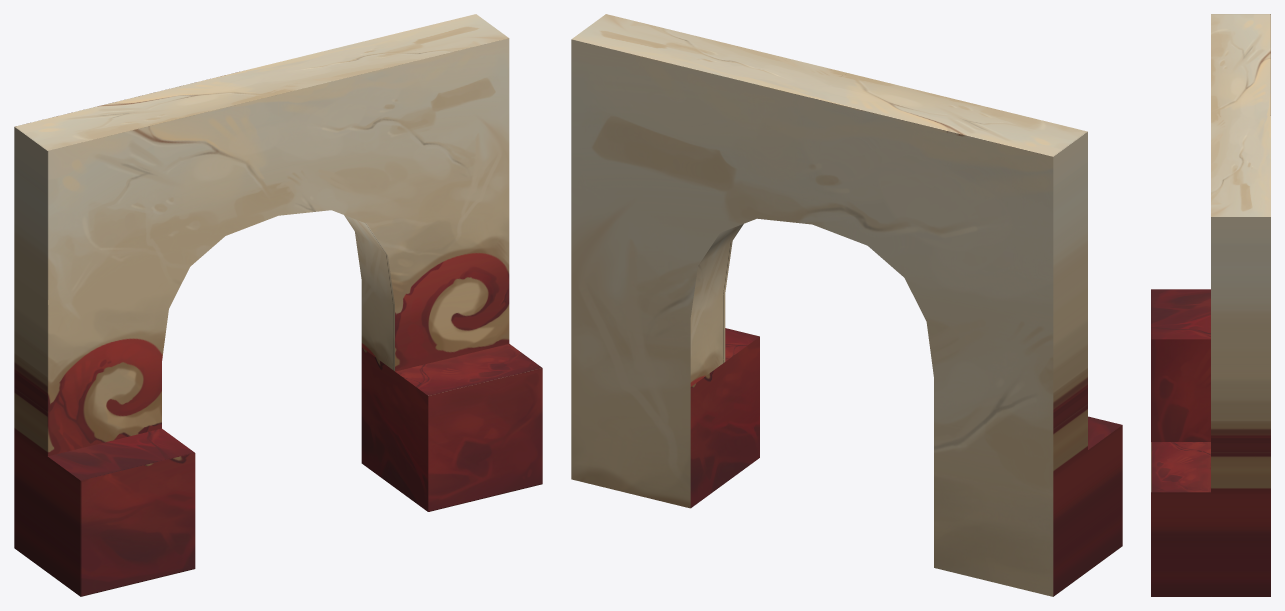
File: arche.fbx
3 renders of one model, left to right at view 1: azimuth 30°, elevation 25°; view 2: azimuth 150°, elevation 25°; view 3: azimuth 270°, elevation 25°, orthographic. The views are drawn at different scales.
Parts seen in each view (by area): view 1: Box003; view 2: Box003; view 3: Box003.
Part boxes in pixels (x1,y1,x2,y2): Box003: (14, 14, 542, 596); Box003: (571, 14, 1122, 596); Box003: (1151, 14, 1270, 596).
Size of the model in its own units: 2006 by 1750 by 500.
